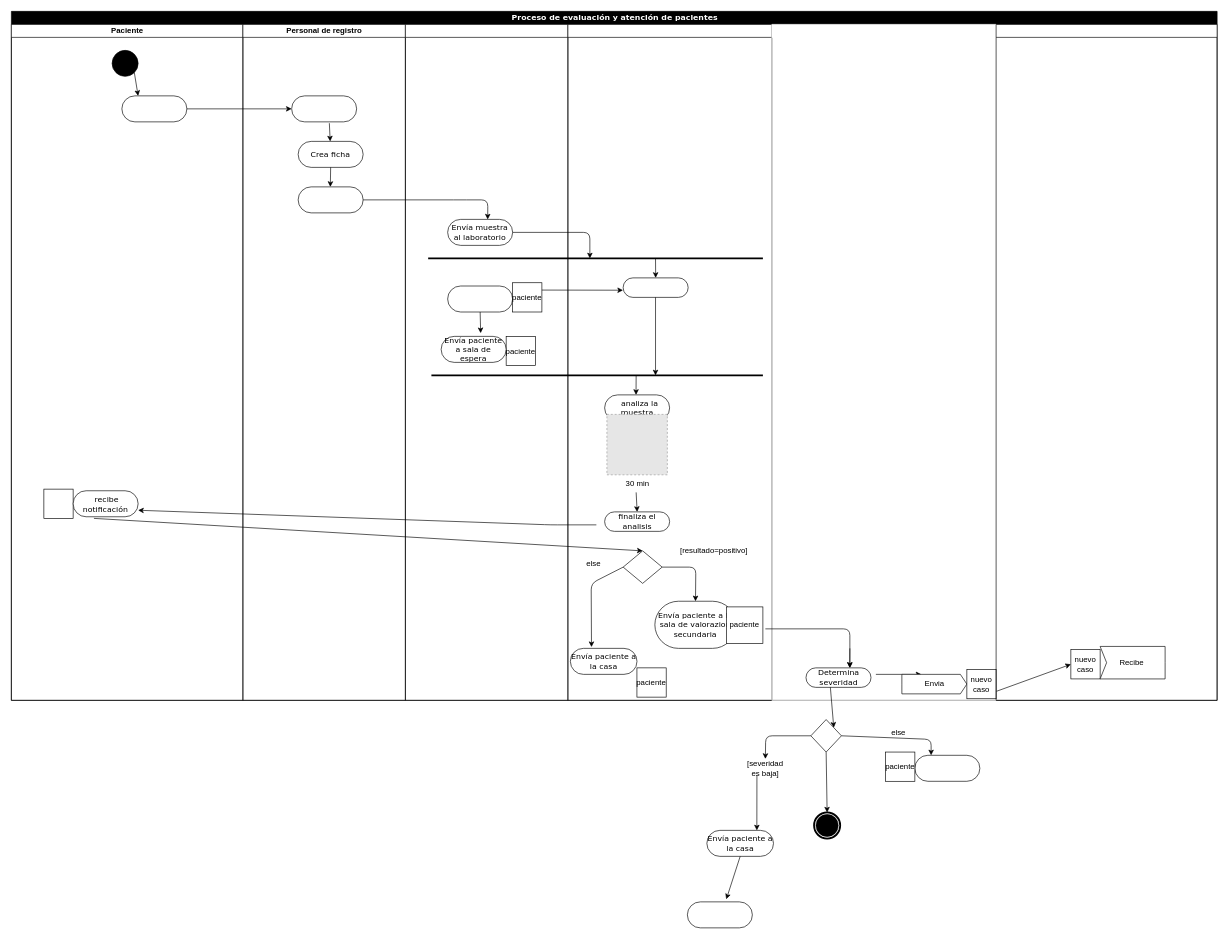
This 1229x939 diagram has some shape labels left out. Grey dashed boxes stand in for pictures. Here are the shapes that lost their labels. From the top down, the box of each, then its label:
(121, 95, 187, 122): ingresa al laboratorio
(291, 95, 357, 122): Recibe al paciente y toma sus datos
(298, 186, 363, 213): Envía ficha a enfermería
(447, 285, 513, 312): instruye para limpiarse ,usar tapabocas
(623, 277, 688, 297): Procesa la muestra
(405, 24, 568, 700): enfermera
(567, 24, 772, 700): especialista de laboratorio
(771, 24, 996, 700): especialista valoración secundaria
(995, 24, 1217, 700): Funcionario Sistema nacional de salud
(43, 488, 73, 518): notificacion
(914, 755, 980, 781): se hospitaliza inmediatamente
(687, 901, 752, 928): permanece en cuarentena
